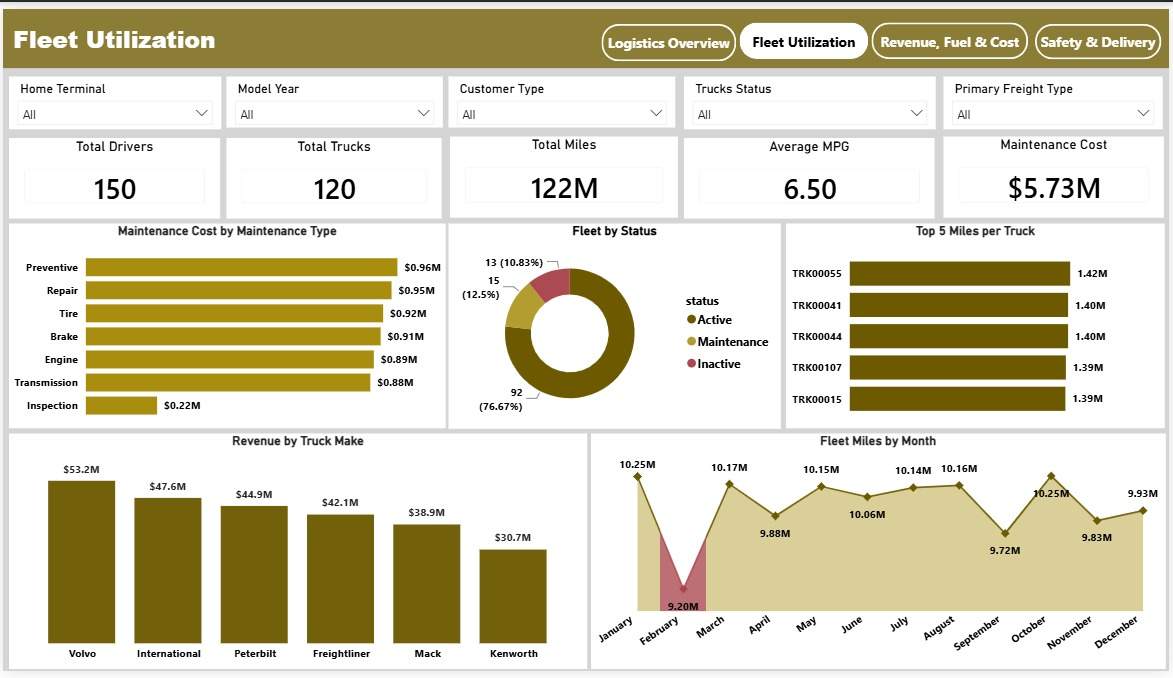

What the dashboard file says about the page in this screenshot:
{"tool":"powerbi","page":{"name":"Fleet Utilization","canvas":[1341,762],"ordinal":1},"visuals":[{"type":"shape","box":[0,0,1378,68.3],"z":0},{"type":"cardVisual","title":"Total Drivers","fields":{"Data":["CountNonNull(Drivers.driver_id)"]},"box":[7.1,147.6,242.9,92.9],"z":1000},{"type":"cardVisual","title":"Total Trucks","fields":{"Data":["CountNonNull(Trucks.truck_id)"]},"box":[257.1,147.6,247.6,92.9],"z":2000},{"type":"cardVisual","title":"Total Miles","fields":{"Data":["Sum(Trips.actual_distance_miles)"]},"box":[513.3,146.7,262.2,93.3],"z":3000},{"type":"cardVisual","title":"Average MPG","fields":{"Data":["Avg(Truck Utilization Metrics.average_mpg)"]},"box":[783.3,147.6,288.1,92.9],"z":4000},{"type":"barChart","title":"Maintenance Cost by Maintenance Type","fields":{"Category":["Maintenance Records.maintenance_type"],"Y":["Maintenance Records.Total Maintenance Cost"]},"box":[6.2,245.8,502.1,235.4],"z":5000},{"type":"lineChart","title":"Fleet Miles by Month","fields":{"Category":["Truck Utilization Metrics.month.Variation.Date Hierarchy.Month"],"Y":["Sum(Truck Utilization Metrics.total_miles)"]},"box":[675,487.5,660.4,270.8],"z":6000},{"type":"slicer","fields":{"Values":["Trucks.home_terminal"]},"box":[6.2,77.1,243.8,60.4],"z":7000},{"type":"slicer","fields":{"Values":["Trucks.model_year"]},"box":[256.1,78,248.8,58.5],"z":8000},{"type":"columnChart","title":"Revenue by Truck Make","fields":{"Category":["Trucks.make"],"Y":["Sum(Truck Utilization Metrics.total_revenue)"]},"box":[6.2,487.5,664.6,270.8],"z":9000},{"type":"slicer","fields":{"Values":["Customers.customer_type"]},"box":[512.2,78,261,58.5],"z":10000},{"type":"slicer","fields":{"Values":["Trucks.status"]},"box":[783.3,77.1,289.6,60.4],"z":11000},{"type":"slicer","fields":{"Values":["Customers.primary_freight_type"]},"box":[1081.2,77.1,252.1,60.4],"z":12000},{"type":"barChart","title":"Top 5 Miles per Truck","fields":{"Category":["Truck Utilization Metrics.truck_id"],"Y":["Sum(Truck Utilization Metrics.total_miles)"]},"box":[900,245.8,435.4,235.4],"z":13000},{"type":"actionButton","box":[688.1,16.7,154.8,42.9],"z":14000},{"type":"actionButton","box":[846,16,148,42],"z":15000},{"type":"actionButton","box":[998,16,180,42],"z":16000},{"type":"actionButton","box":[1185.7,16.7,145.2,40.5],"z":17000},{"type":"textbox","box":[7.3,9.8,485.4,61],"z":18000},{"type":"cardVisual","title":"Maintenance Cost","fields":{"Data":["Maintenance Records.Total Maintenance Cost"]},"box":[1081,146.6,253.4,93.1],"z":19000},{"type":"donutChart","title":"Fleet by Status","fields":{"Category":["Trucks.status"],"Y":["CountNonNull(Trucks.truck_id)"]},"box":[512.8,246.2,382.1,235.9],"z":20000}]}

Visuals, with their boxes in screenshot pixels (x1, y1, x2, y2), scaled from the page's 1341x762 canvas onto the 1173x678 screenshot:
shape: 0, 0, 1172, 61
"Total Drivers" cardVisual: 6, 131, 219, 214
"Total Trucks" cardVisual: 225, 131, 441, 214
"Total Miles" cardVisual: 449, 131, 678, 214
"Average MPG" cardVisual: 685, 131, 937, 214
"Maintenance Cost by Maintenance Type" barChart: 5, 219, 445, 428
"Fleet Miles by Month" lineChart: 590, 434, 1168, 675
slicer - Trucks.home_terminal: 5, 69, 219, 122
slicer - Trucks.model_year: 224, 69, 442, 121
"Revenue by Truck Make" columnChart: 5, 434, 587, 675
slicer - Customers.customer_type: 448, 69, 676, 121
slicer - Trucks.status: 685, 69, 938, 122
slicer - Customers.primary_freight_type: 946, 69, 1166, 122
"Top 5 Miles per Truck" barChart: 787, 219, 1168, 428
actionButton: 602, 15, 737, 53
actionButton: 740, 14, 869, 52
actionButton: 873, 14, 1030, 52
actionButton: 1037, 15, 1164, 51
textbox: 6, 9, 431, 63
"Maintenance Cost" cardVisual: 946, 130, 1167, 213
"Fleet by Status" donutChart: 449, 219, 783, 429
